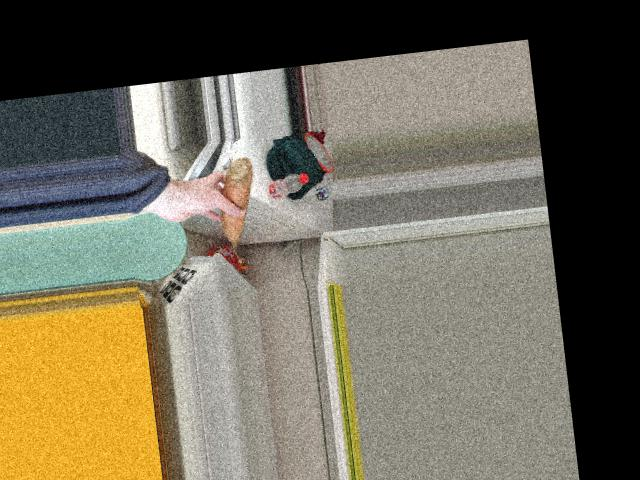sweet_potato: (219, 157, 255, 250)
